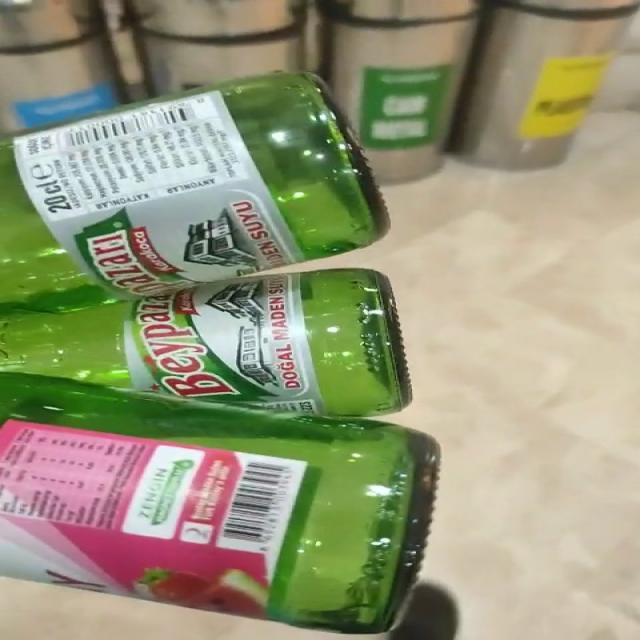glass: (1, 73, 440, 635)
